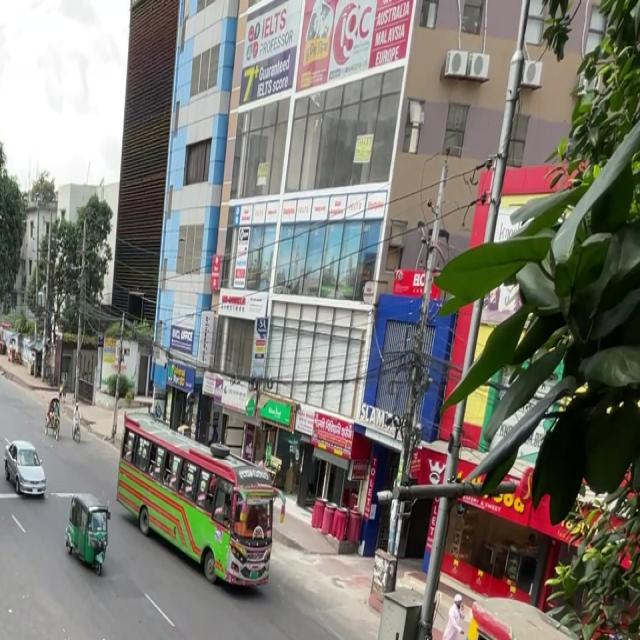bus: (120, 398, 277, 598)
car: (1, 434, 50, 504)
rickshaw: (60, 488, 116, 581)
